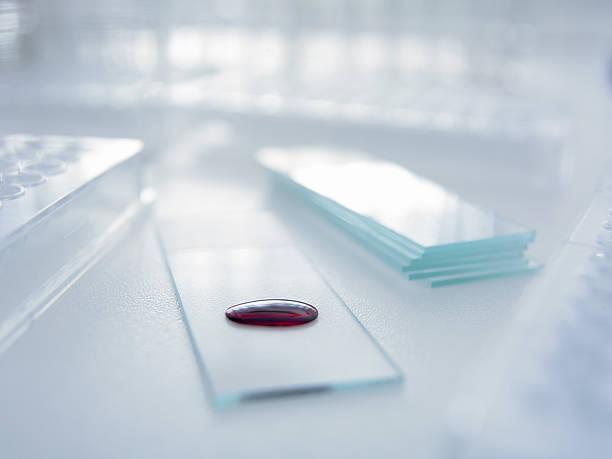Fire: (225, 300, 318, 326)
